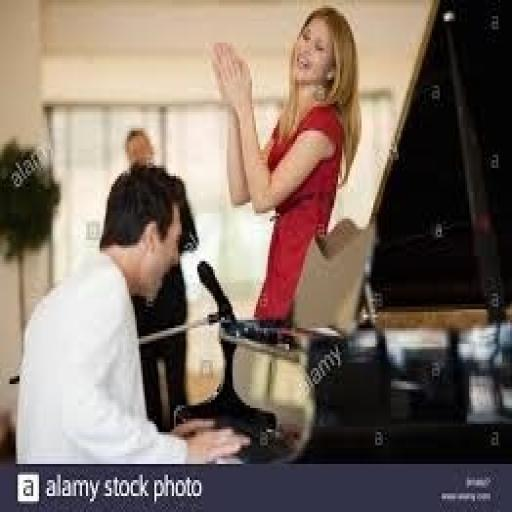clapping: (205, 5, 364, 328)
